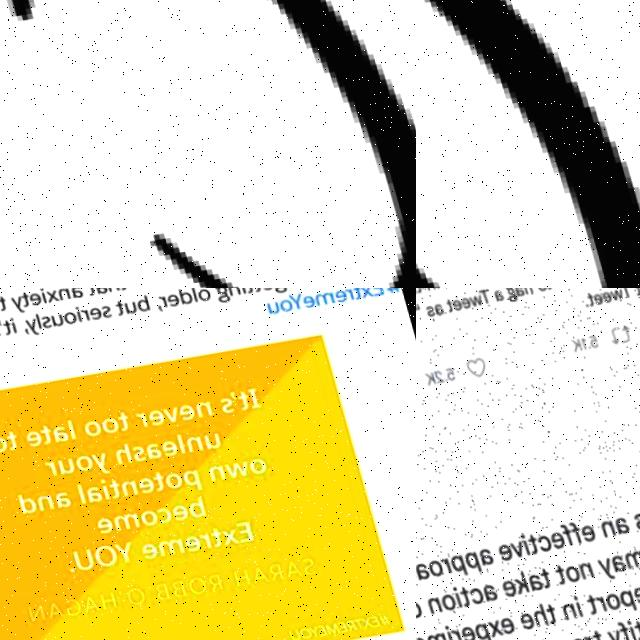1: (577, 336, 586, 350)
2: (429, 369, 442, 384)
5: (584, 332, 598, 349), (441, 367, 452, 381)
C: (258, 0, 416, 288)
O: (416, 0, 640, 288)
